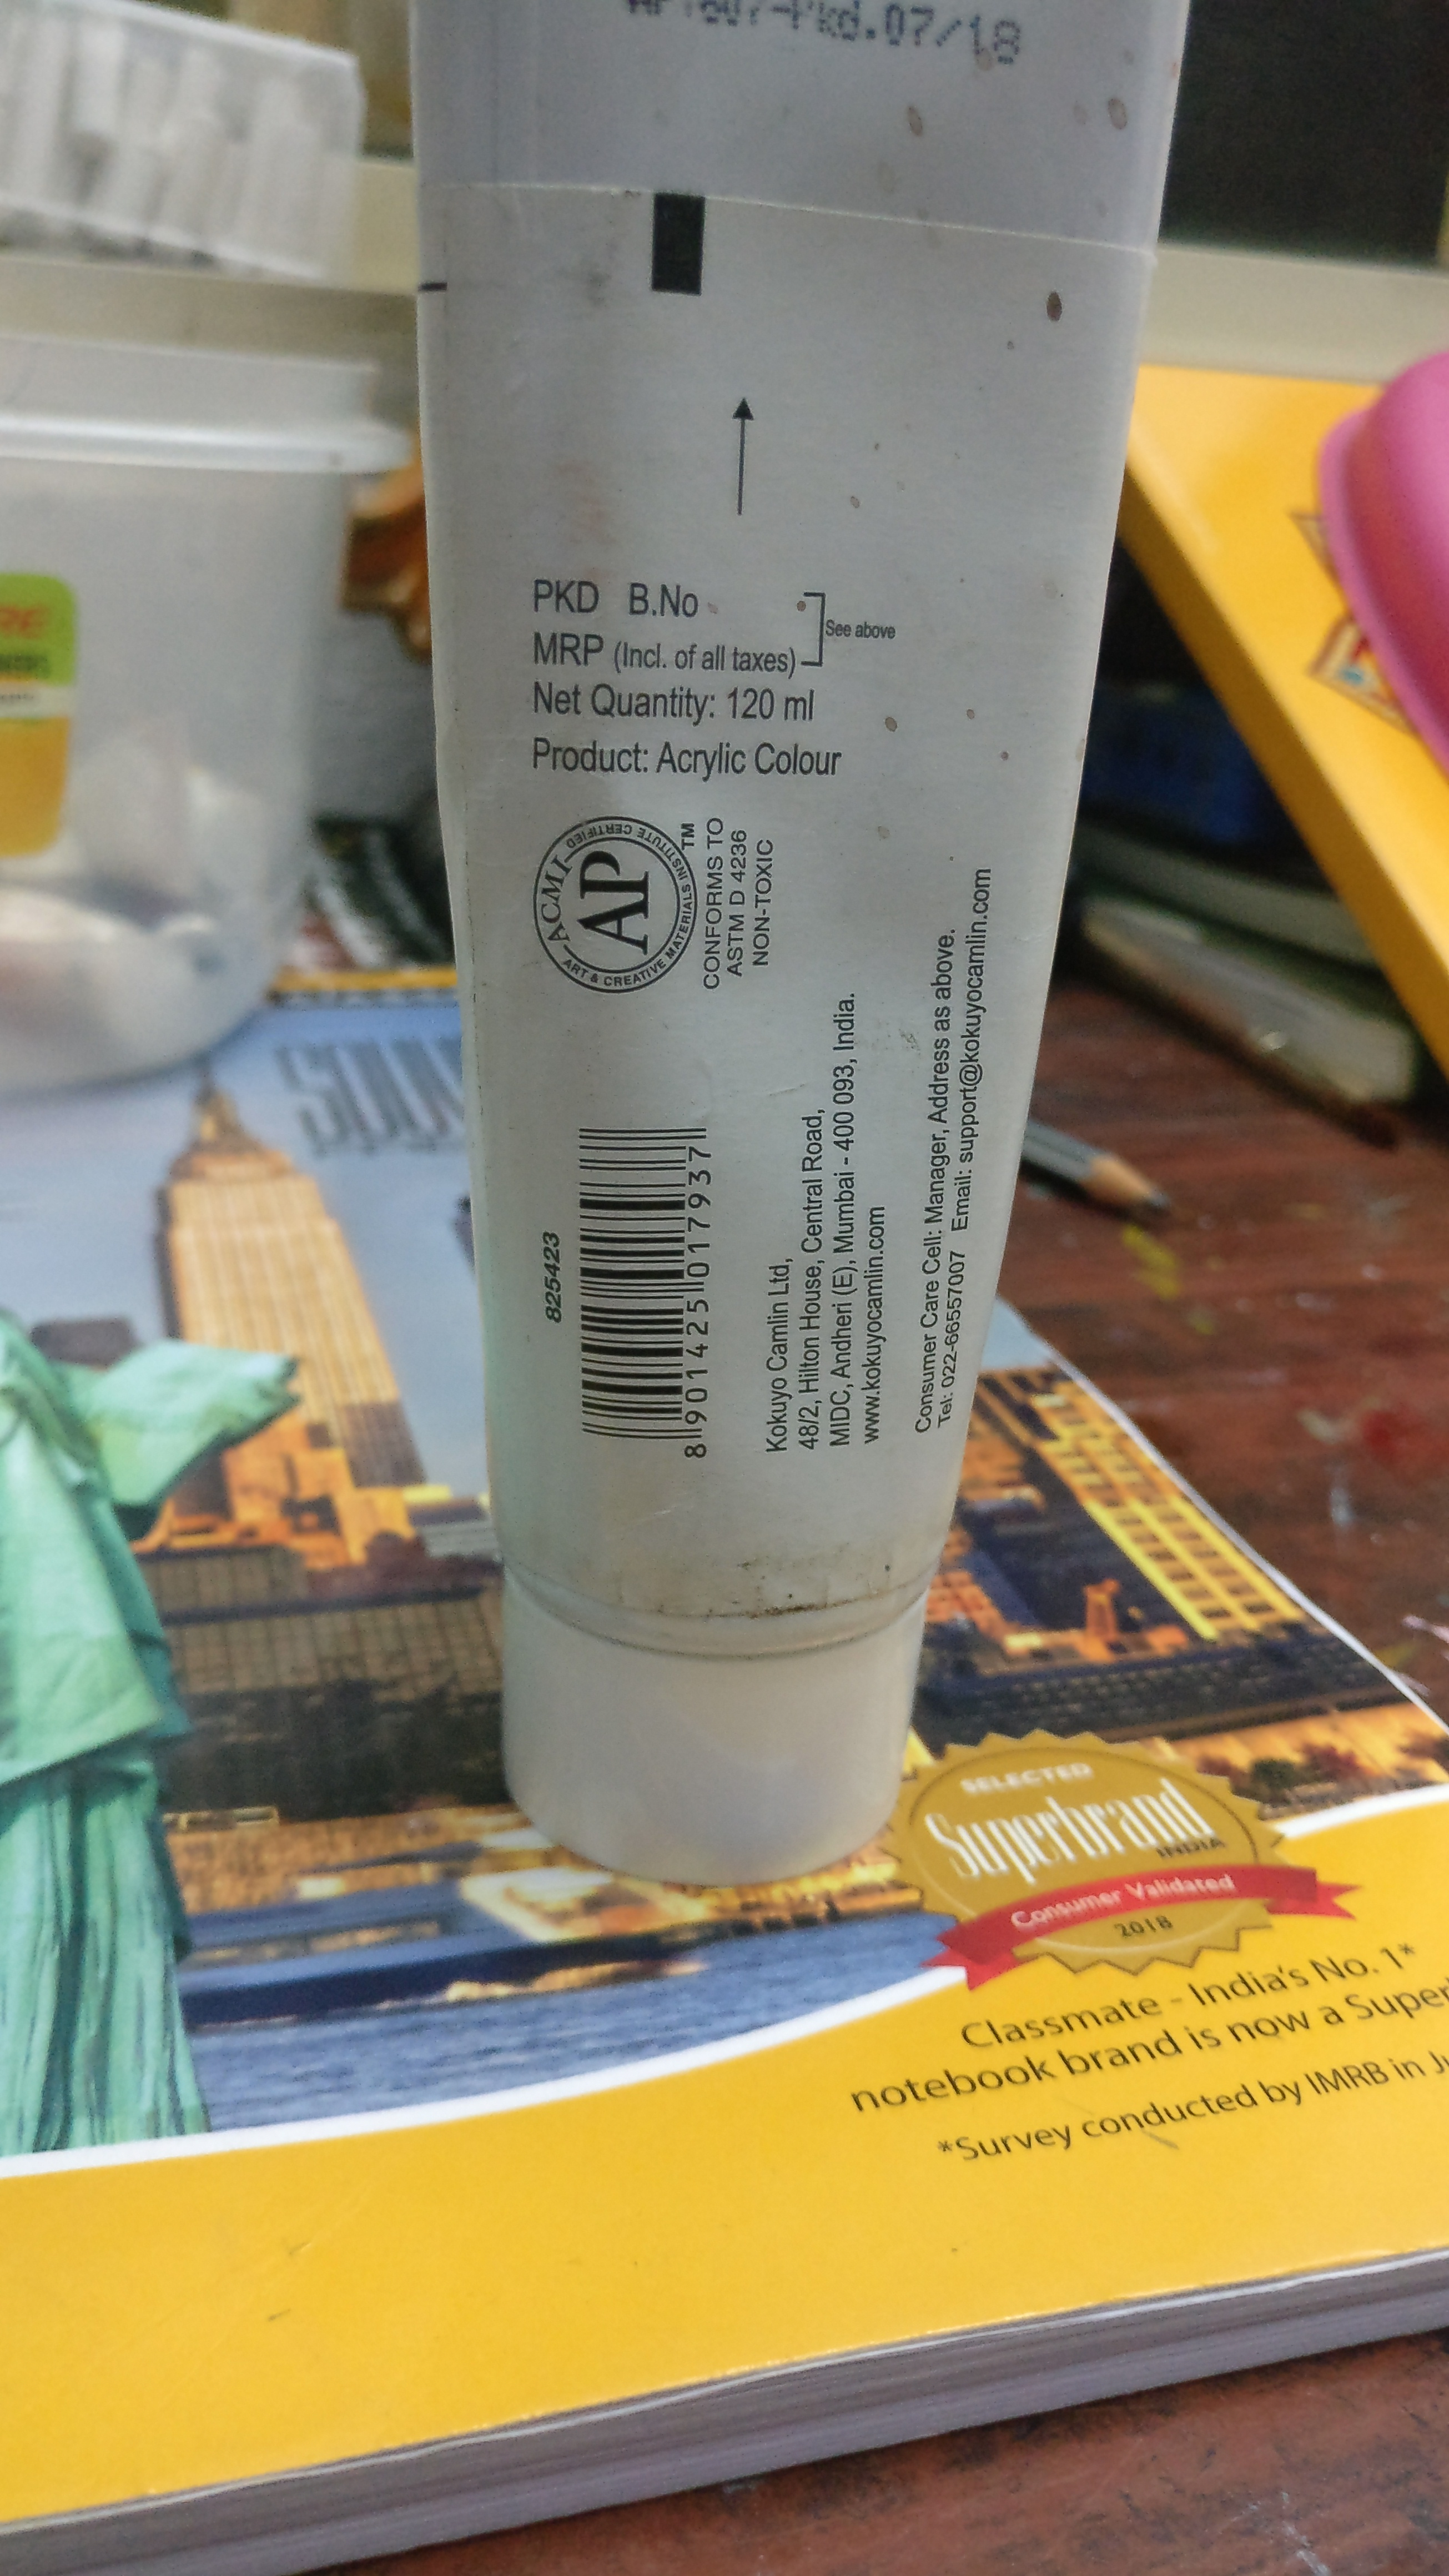barcode: (534, 1093, 731, 1493)
